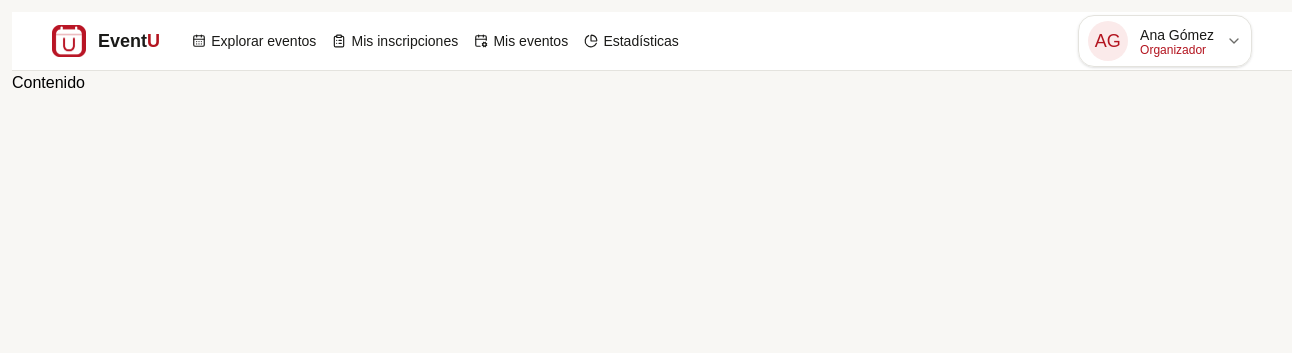
LayoutAplicacion › abre el menú y navega a la pantalla de perfil
What coordinates should you click on to do the following:
click the button with aria-label "Menú de perfil de Ana Gómez"
I would click on:
 (1165, 41)
Its box is [1078,15,1252,67].
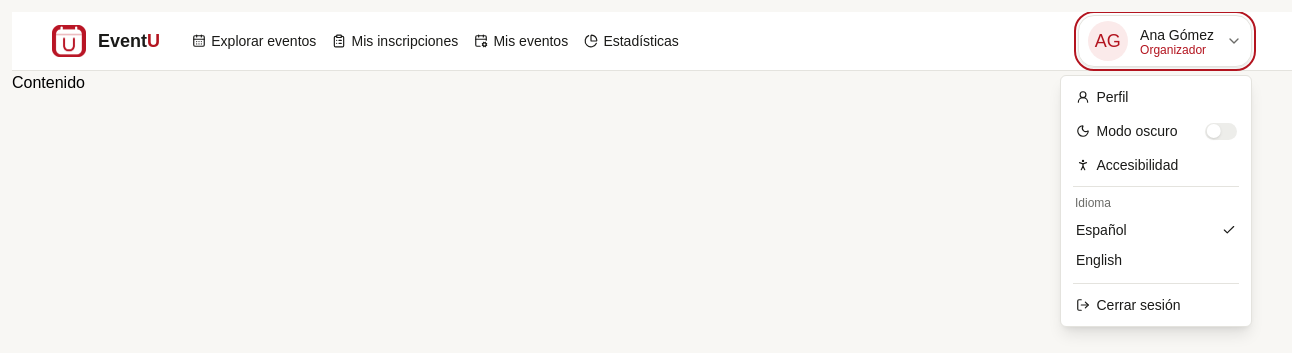
Now the element named "Opciones de perfil" is shown, box [1060,75,1252,327]
What coordinates should you click on to do the following:
click the link "Perfil"
I would click on:
 (1102, 97)
Its box is [1076,89,1128,105].
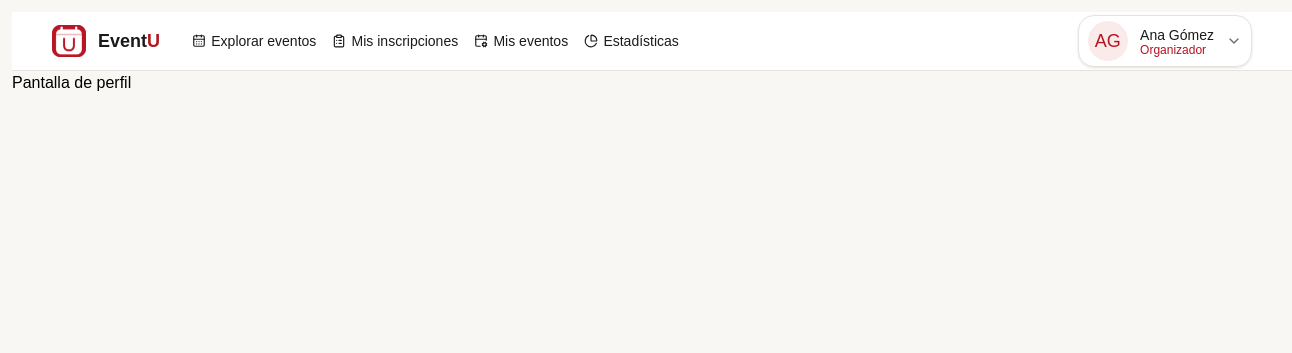
Now the text "Pantalla de perfil" is shown, box [12,74,131,91]
